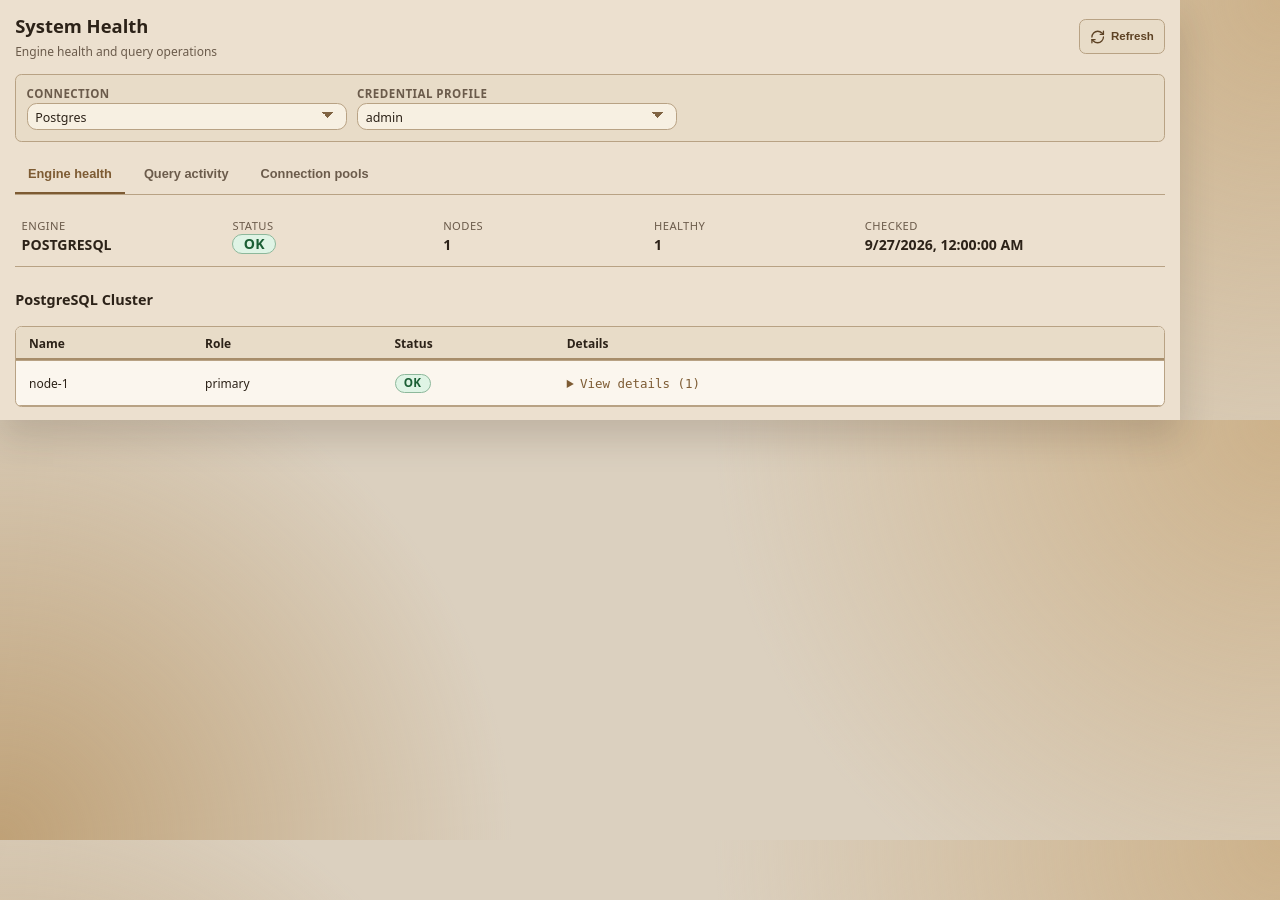
Test case: System Health inspection › shows unavailable activity without an endless loading message
Click the button "Query activity": (186,175) [131,156,241,194]
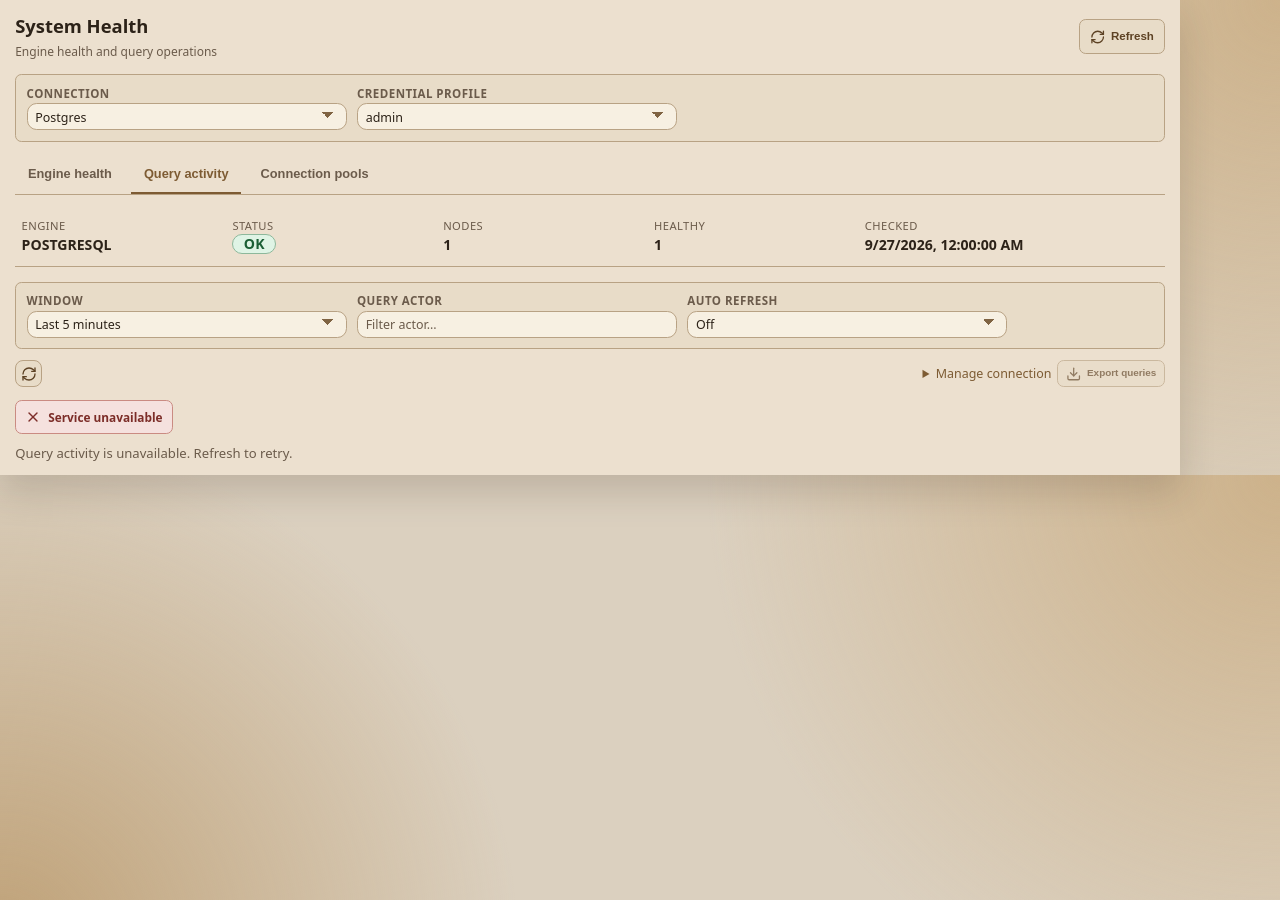
Now the message reads "Service unavailable", box [48,409,163,425]
Now the text "Query activity is unavailable. Refresh to retry." is shown, box [15,444,292,462]
